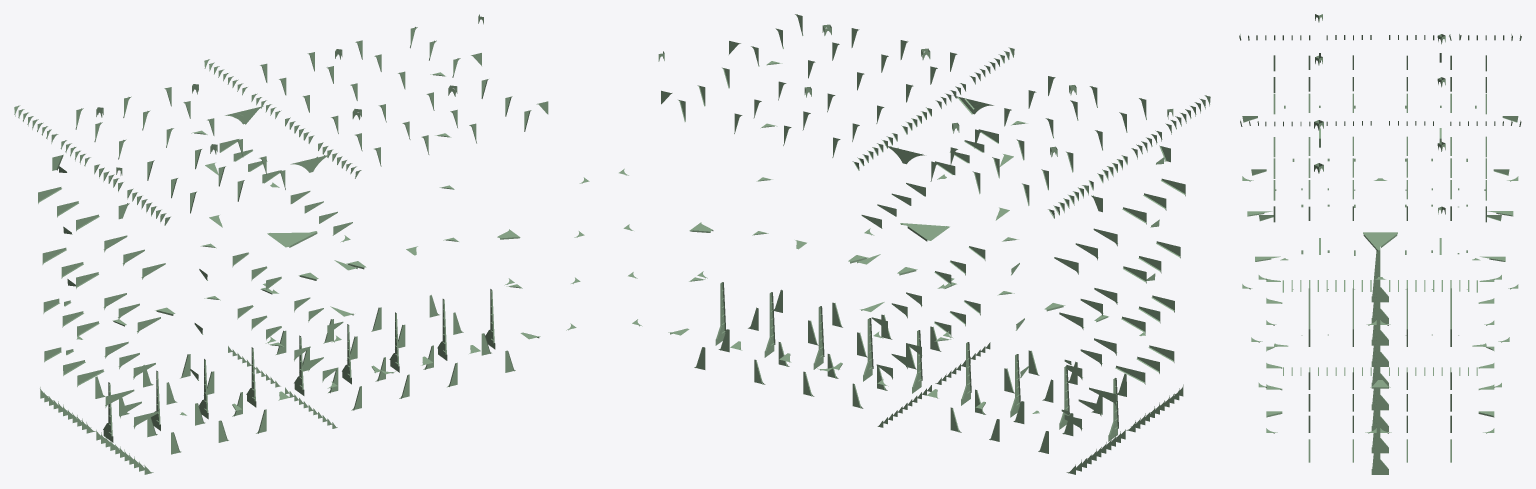
The model's file is NO_2_CENTRAL_CARGO_OIL_TK.glb.
3 renders of one model, left to right at view 1: azimuth 30°, elevation 25°; view 2: azimuth 150°, elevation 25°; view 3: azimuth 270°, elevation 25°, orthographic. The views are drawn at different scales.
Parts seen in each view (by area): view 1: no part large enough to name; view 2: no part large enough to name; view 3: PL_CenterBHDBracketxNo2CenterTank_004001-12.5_NVA_1993.
Boxes of the visible parts, bbox=[...] form: PL_CenterBHDBracketxNo2CenterTank_004001-12.5_NVA_1993: bbox=[1371, 421, 1380, 474].
Size of the model in its own units: 47.16 by 31.5 by 29.05.
